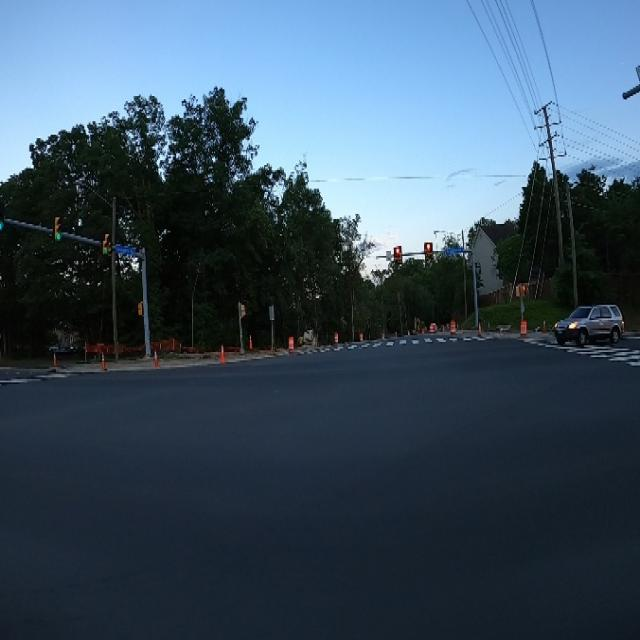car: (549, 298, 628, 354)
